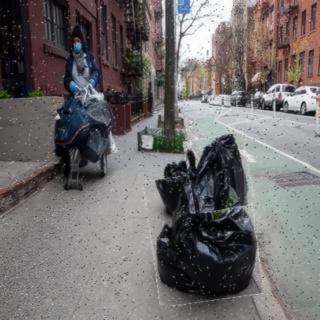Garbage: (154, 208, 257, 296), (154, 134, 245, 207)
